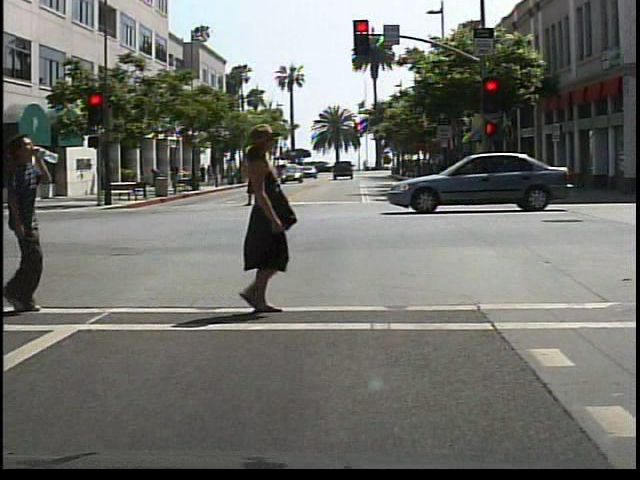person: (220, 130, 326, 323), (2, 131, 57, 316), (244, 155, 271, 209), (168, 160, 184, 193), (147, 166, 167, 192)
